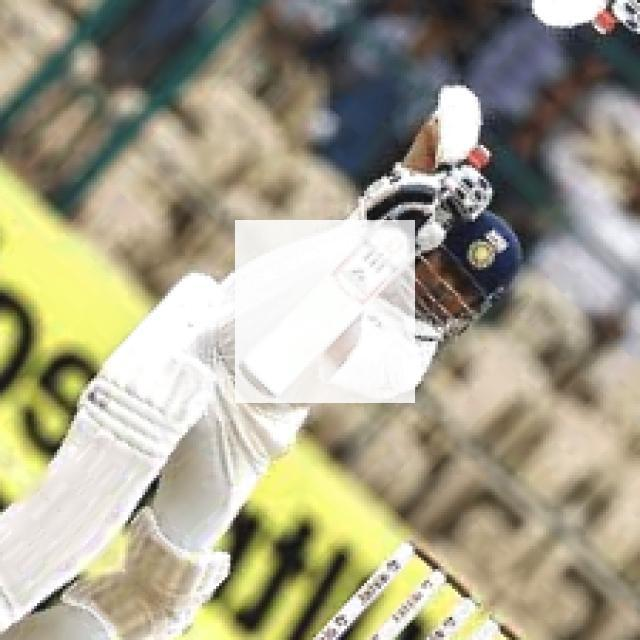bat: (235, 219, 416, 404)
toe: (244, 360, 276, 408)
